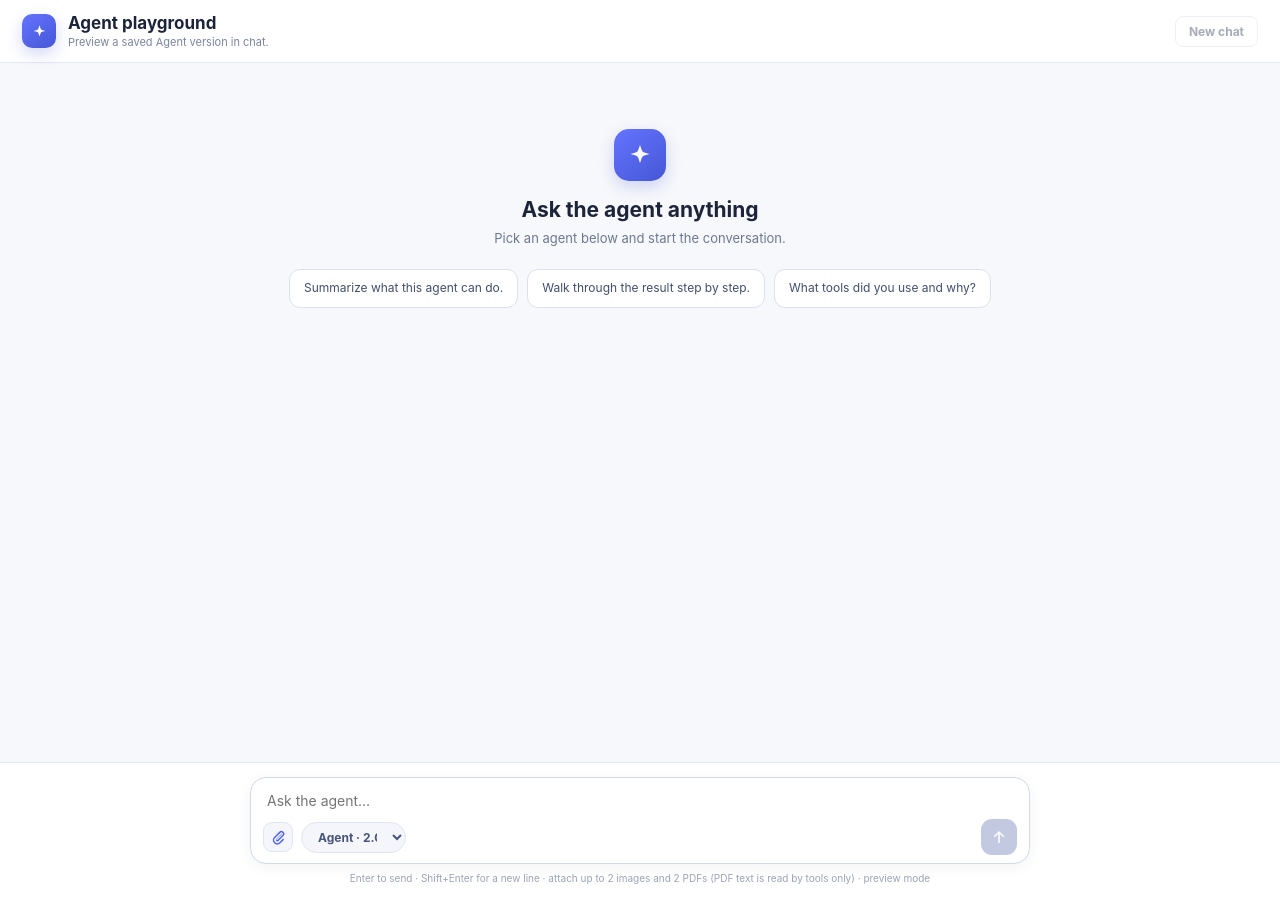
Scenario: ChatPage › 会話ログにユーザー発話とアシスタント応答を積み上げ、送信で入力を空にし、New chatで消去する
Type "hello" into the text box named "Chat message" at (640, 800), box [263,788,1017,813]
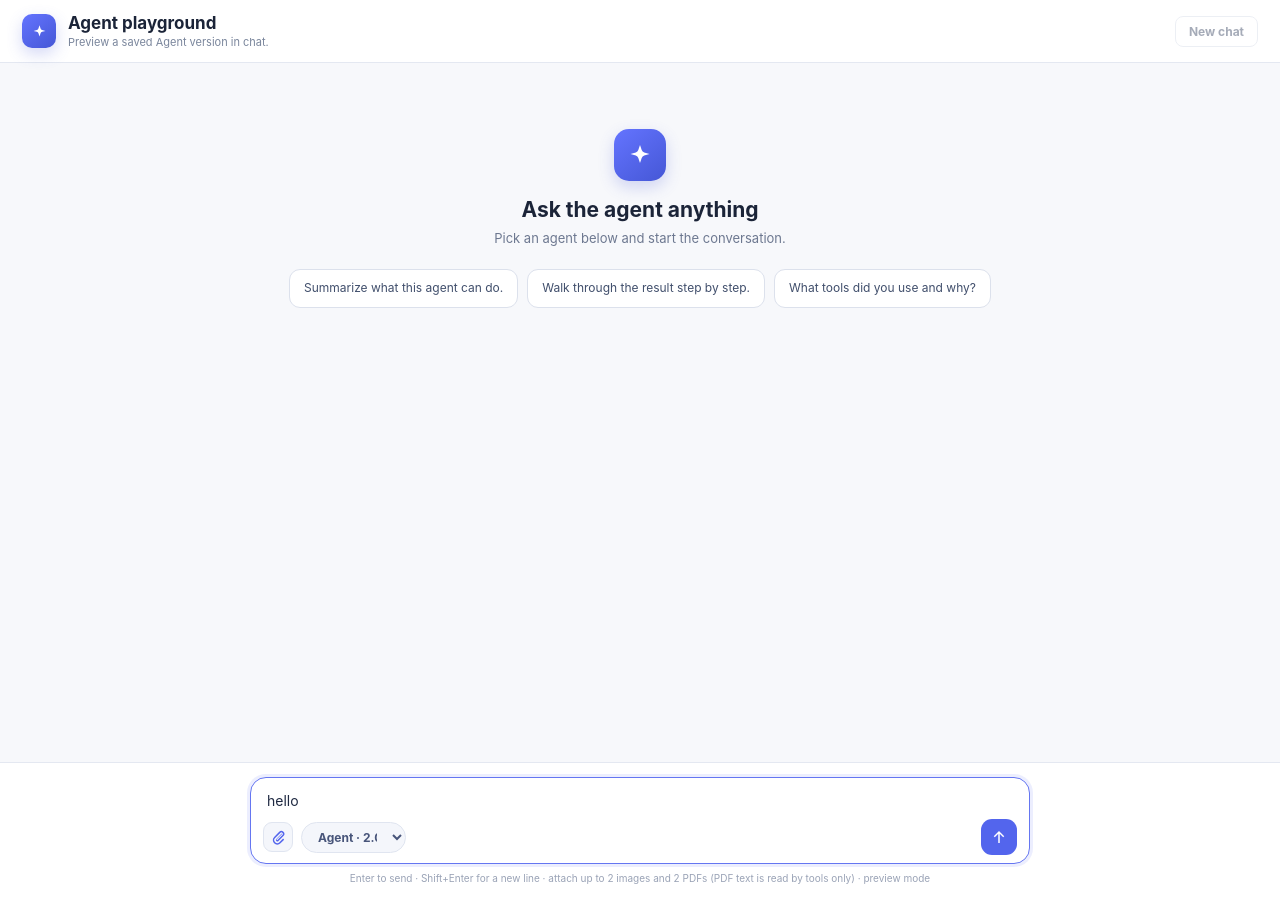
Click the button named "Send" at (999, 837), box [981,819,1017,855]
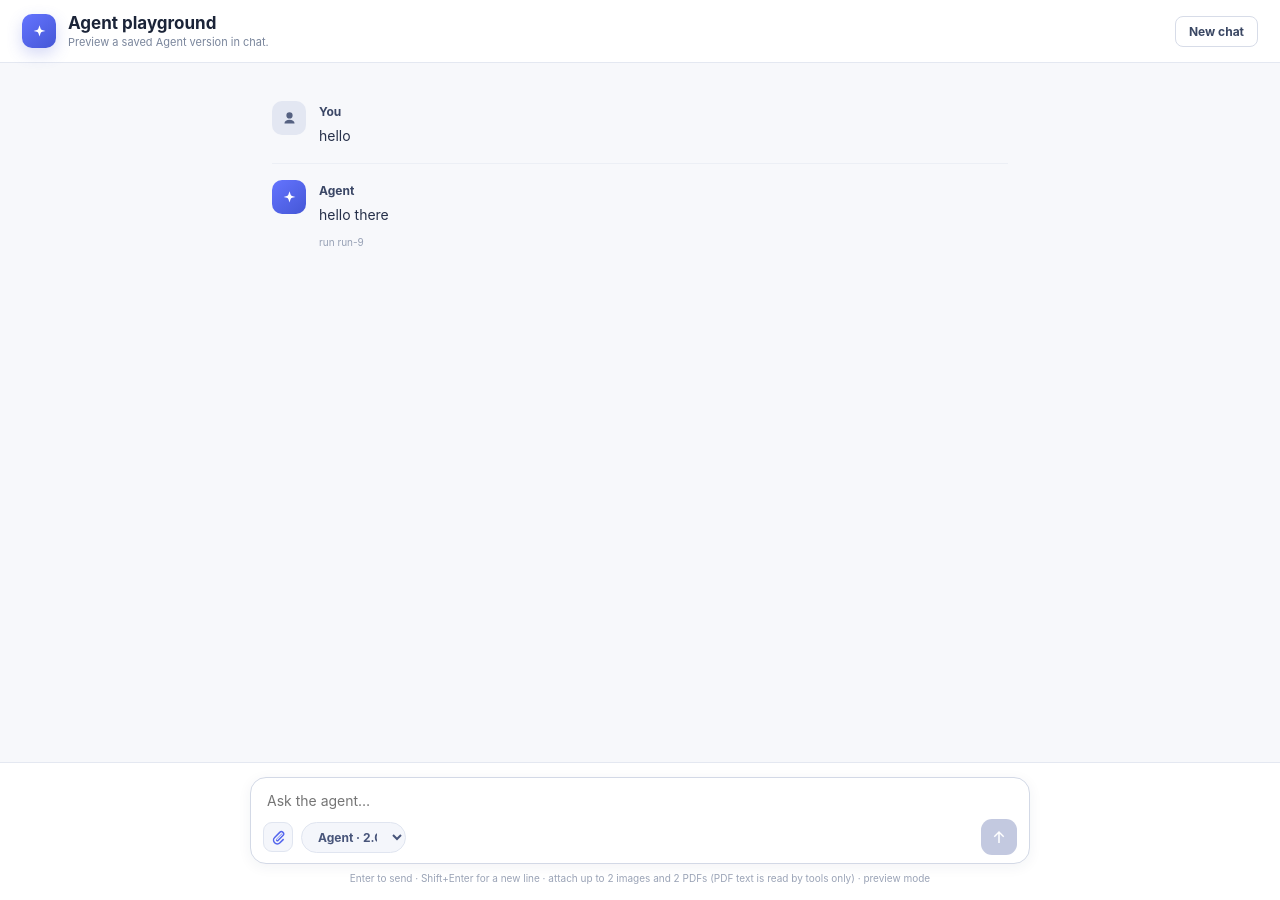
Expected: the text "You" is shown, [319,104,341,119]
Now the text "hello there" is shown, box [319,206,389,224]
Now the text box named "Chat message" is empty, box [263,788,1017,813]
Click the button "New chat" at (1216, 31), box [1175,16,1258,47]
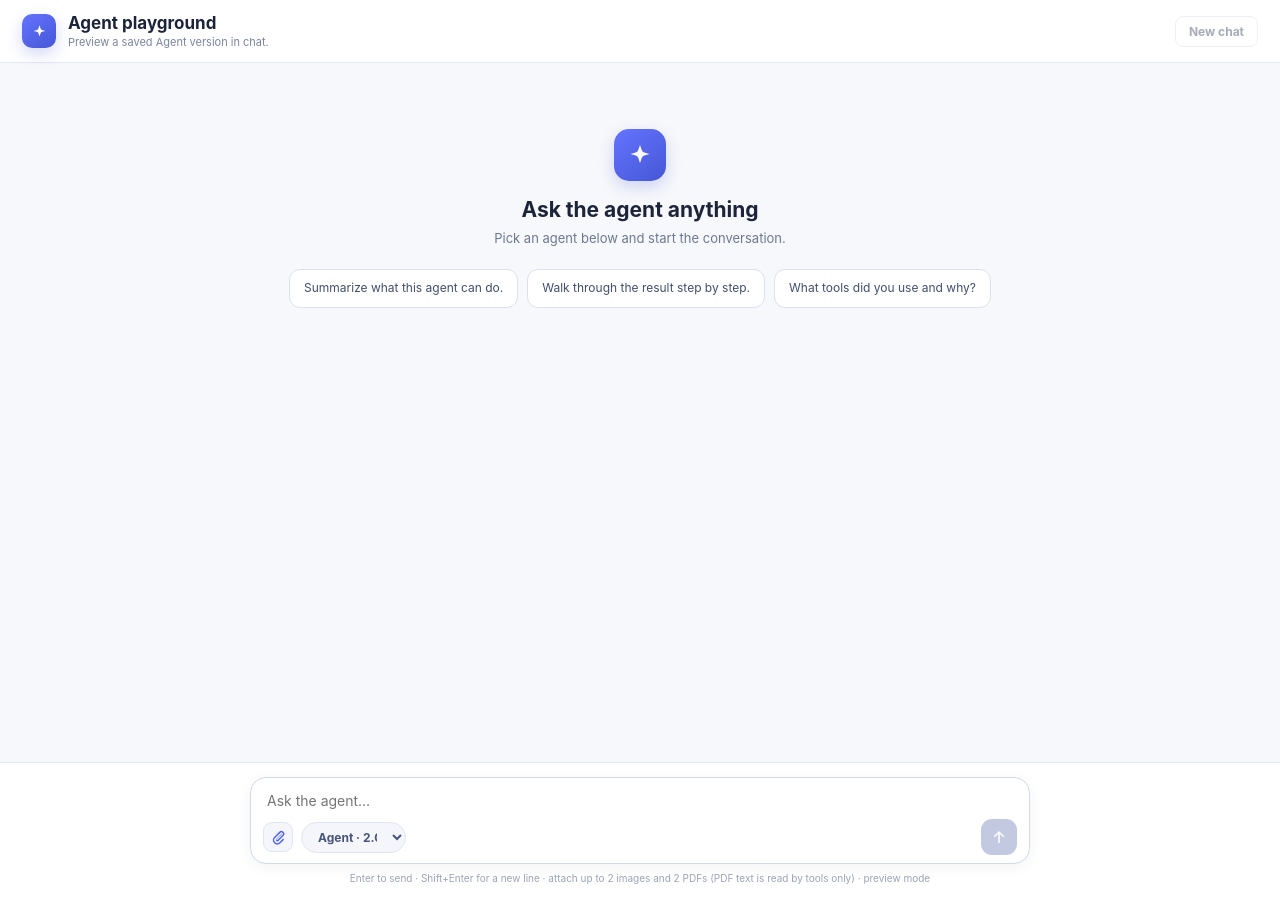
Now the text "hello there" is gone
